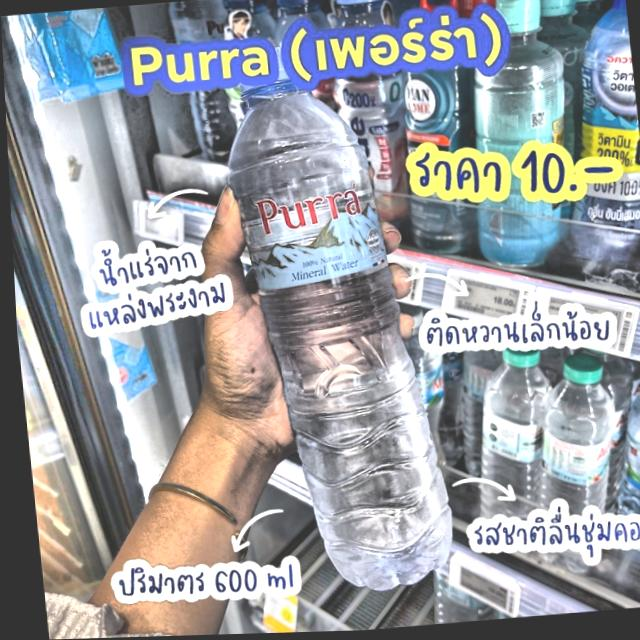Bottles: (206, 26, 469, 626)
